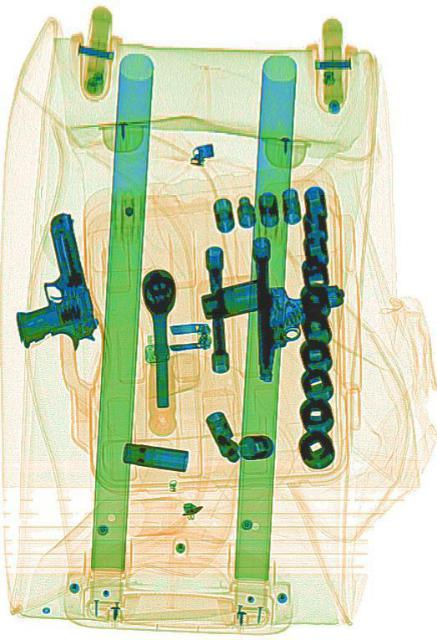Gun: (0, 208, 99, 369), (252, 280, 346, 380)
